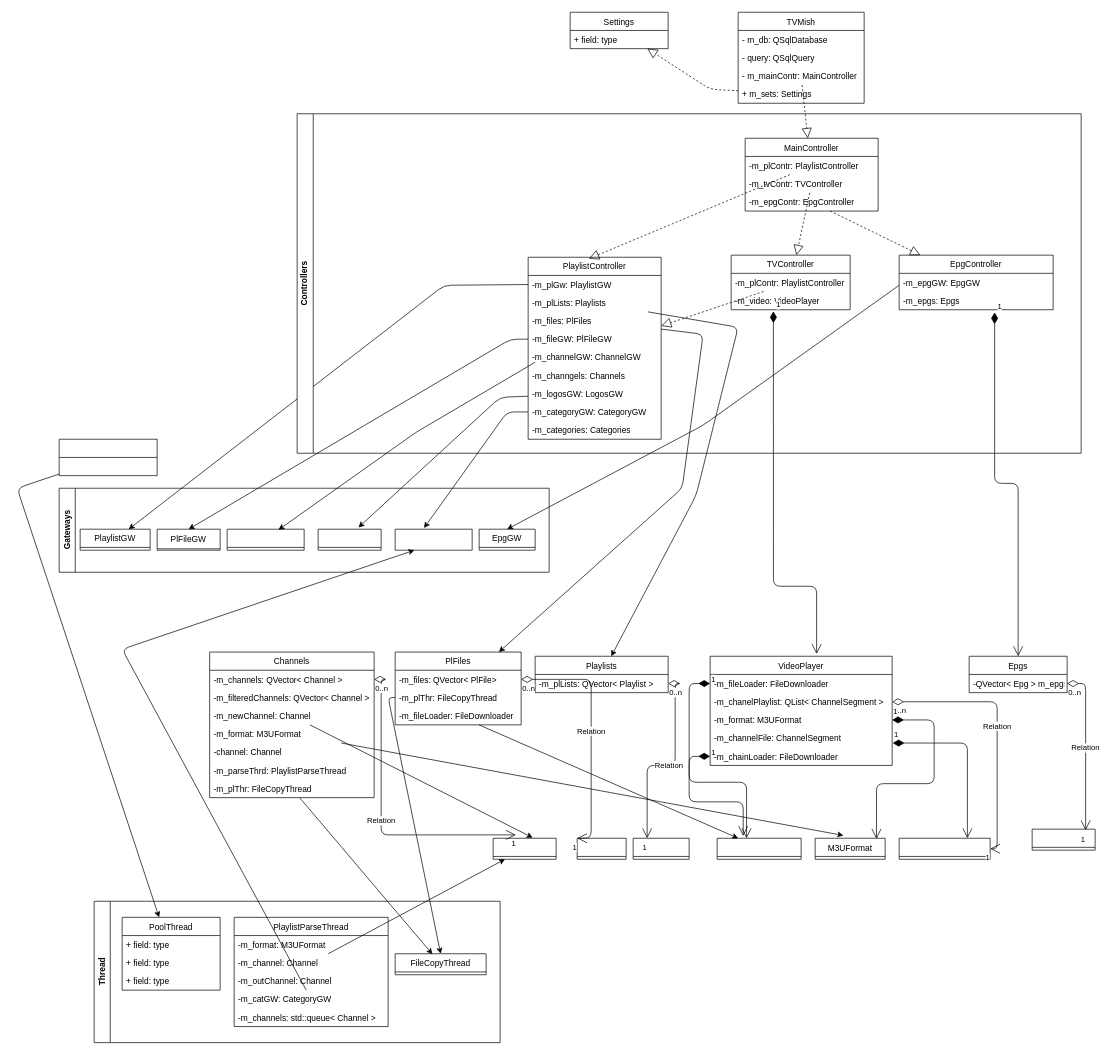
This 1112x1055 diagram has some shape labels left out. The centre of each missing label's shape, as x and y in pixels:
"CategoryGW" belongs at point 433,539.
"Channel" belongs at point 524,848.
"ChannelGW" belongs at point 265,539.
"ChannelSegment" belongs at point 944,848.
"DBst" belongs at point 107,457.
"Epg" belongs at point 1063,839.
"FileDownloader" belongs at point 758,848.
"LogosGW" belongs at point 349,539.
"Playlist" belongs at point 660,848.
"PlFile" belongs at point 601,848.
